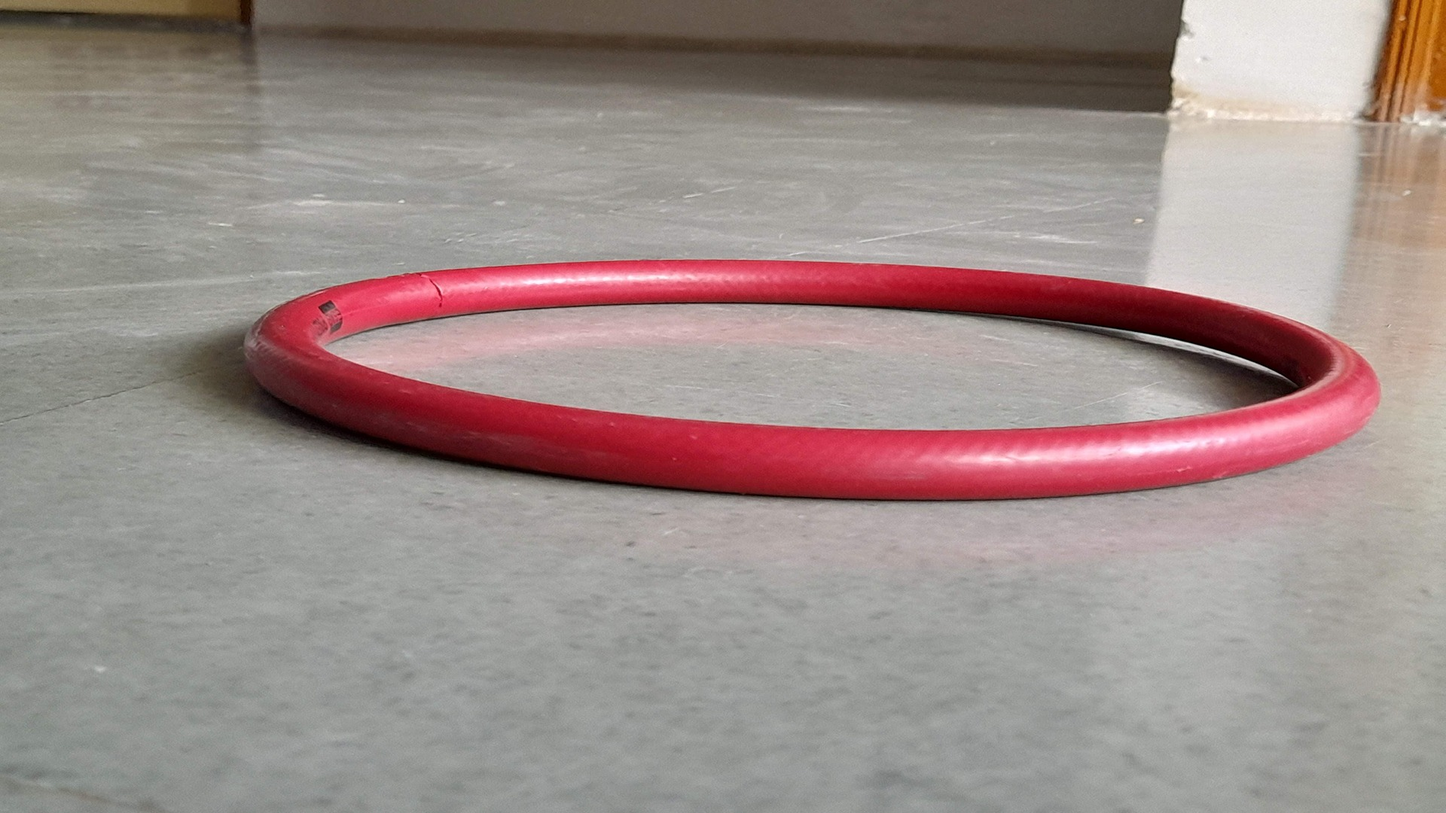Red ring: (246, 265, 1383, 502)
